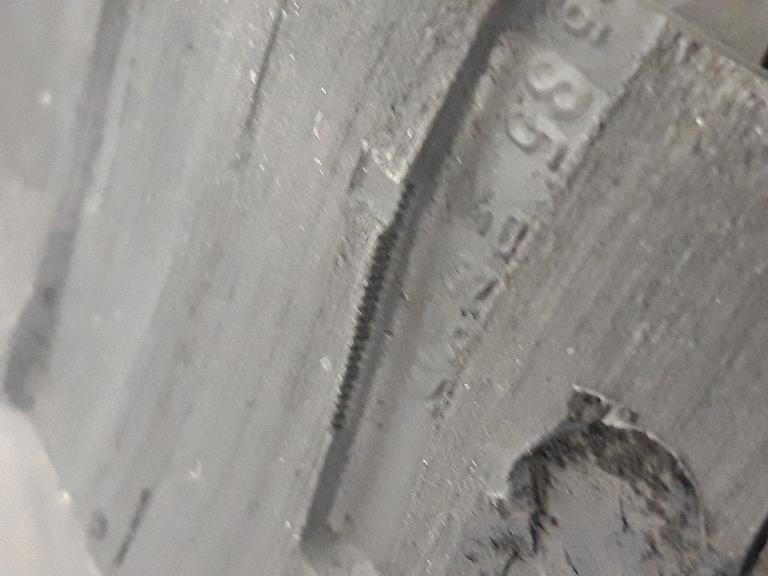temoin:0: (329, 136, 429, 251)
